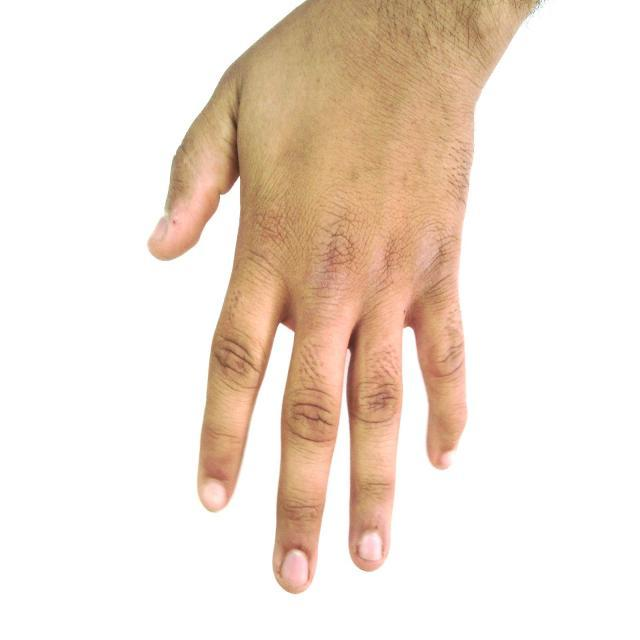Fingernail: (281, 550, 308, 589), (359, 533, 383, 561), (203, 482, 226, 509), (150, 218, 167, 242), (441, 452, 453, 468)
